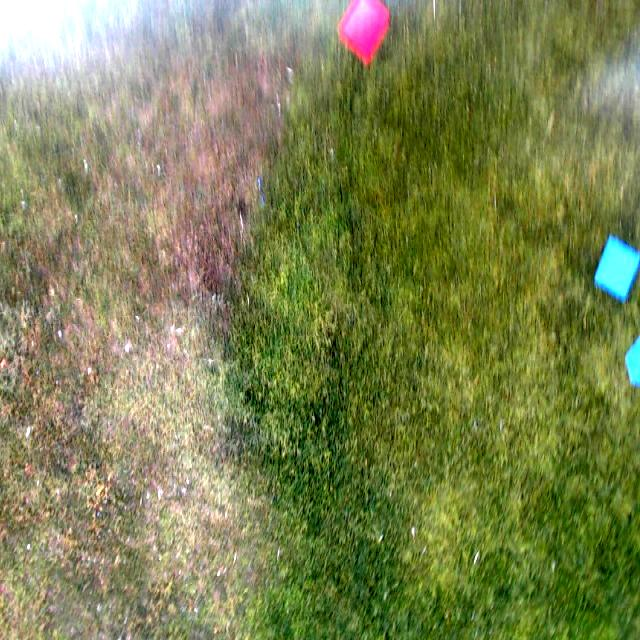blue_square: (595, 232, 640, 305)
